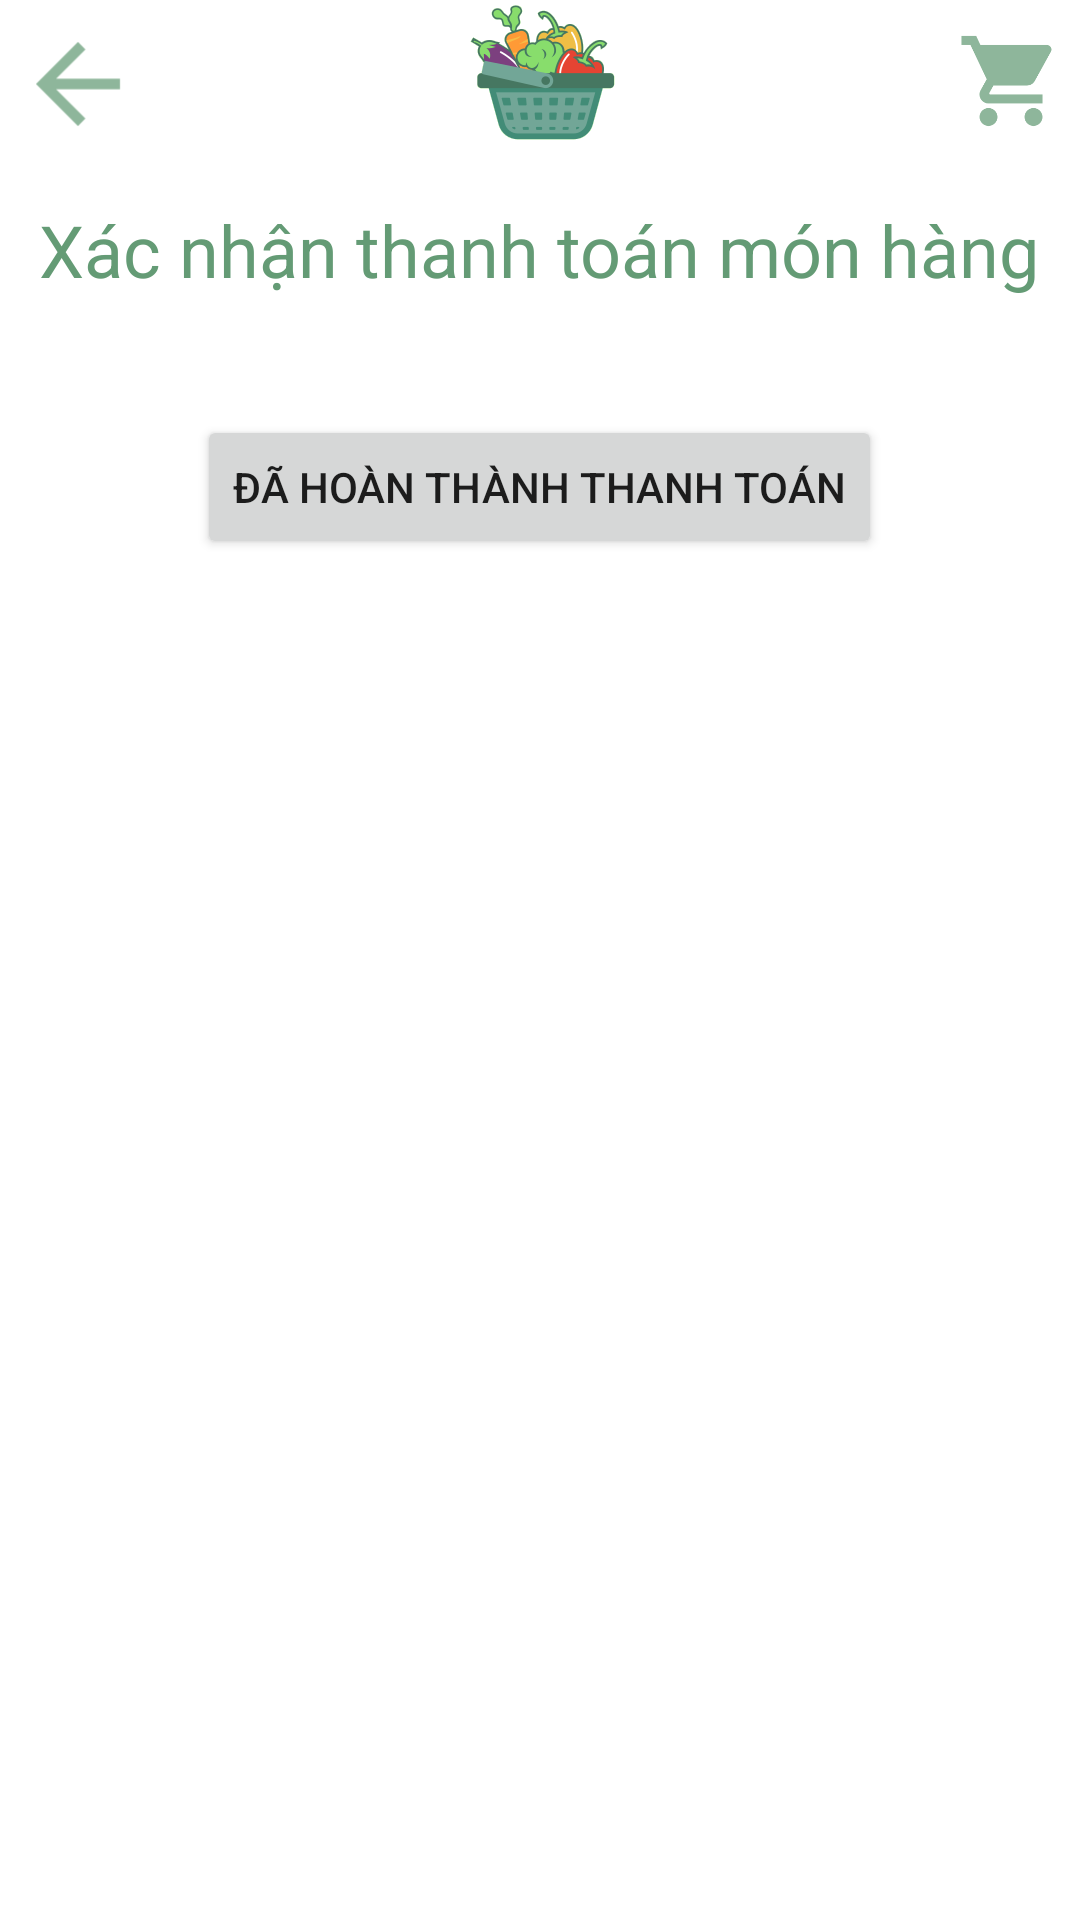

Point at icon controls on the screen. Image size 1080×1920, points as (x,y).
back: (78,84)
cart home: (1006,81)
